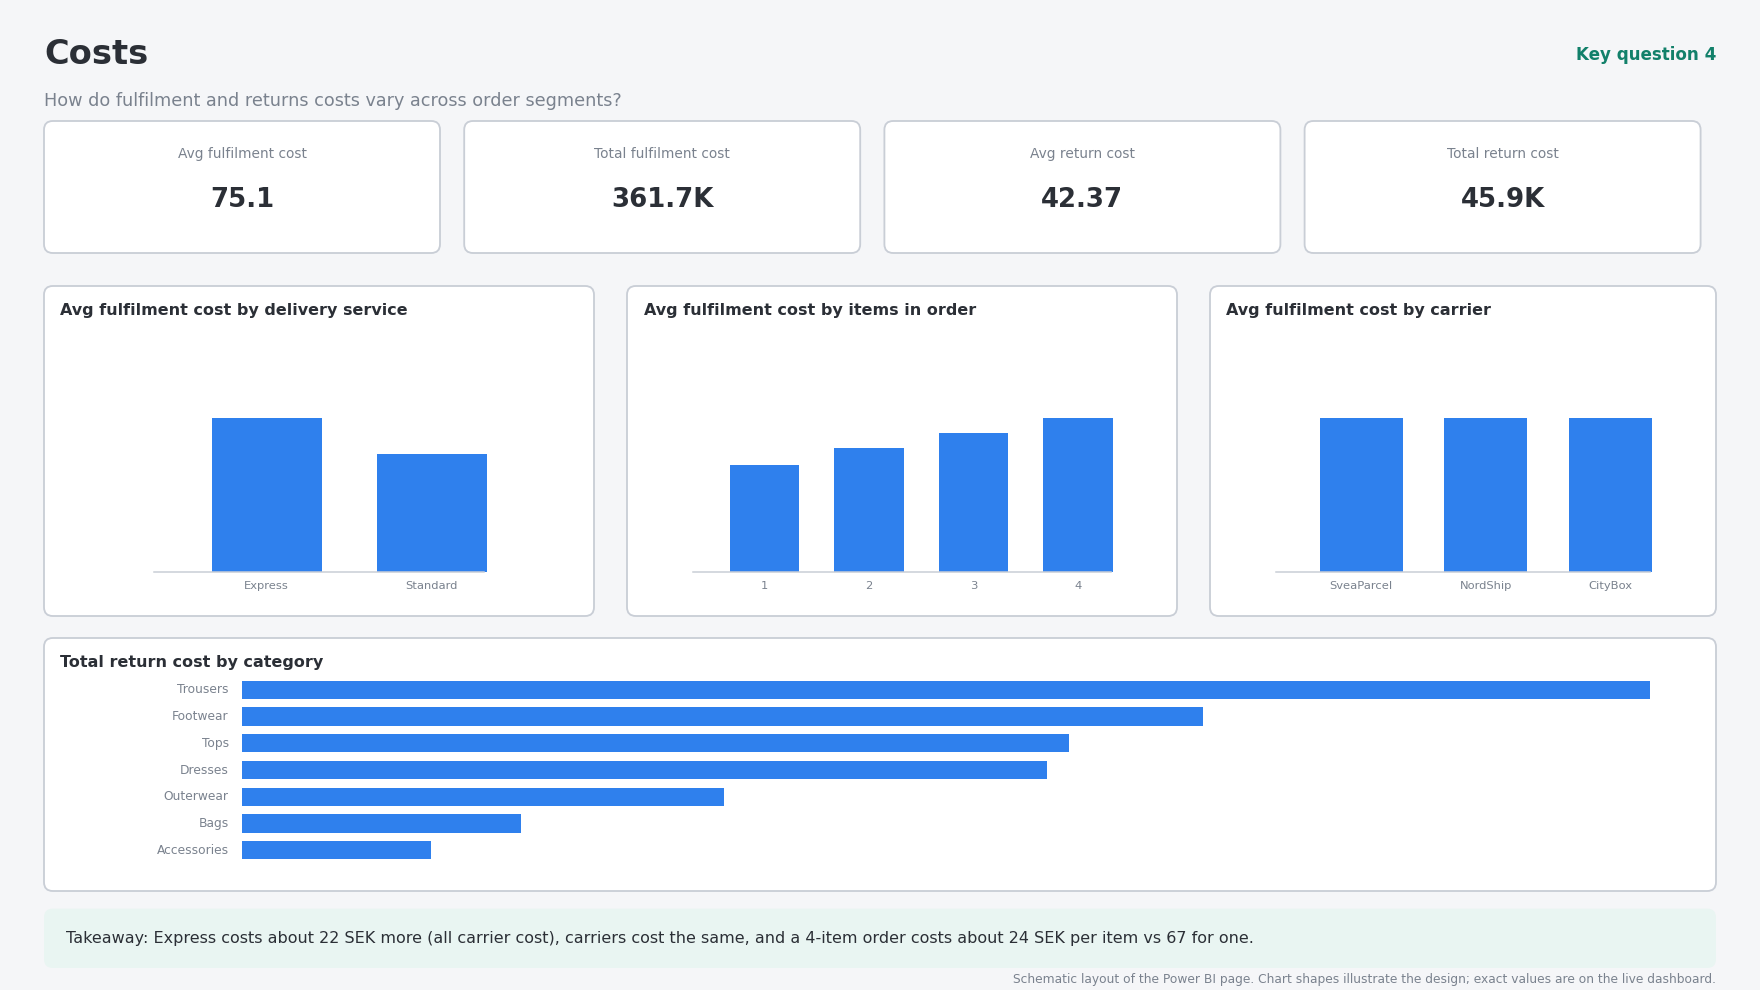

Layout of this report page (visuals, bound fields, positions):
{"tool":"powerbi","page":{"name":"Cost","canvas":[1920,1080],"ordinal":3},"visuals":[{"type":"cardVisual","fields":{"Data":["Measures (2).Avg Fulfilment Cost"]},"box":[1437.1,188.1,455.8,102.8],"z":0},{"type":"cardVisual","fields":{"Data":["Measures (2).Total Fulfilment Cost"]},"box":[32.5,187.5,455,102.5],"z":1000},{"type":"cardVisual","fields":{"Data":["Measures (2).Avg Return Cost"]},"box":[977.5,187.5,450,102.5],"z":2000},{"type":"cardVisual","fields":{"Data":["Measures (2).Total Return Cost"]},"box":[507.5,187.5,435,102.5],"z":3000},{"type":"clusteredColumnChart","title":"Avg fulfilment cost by delivery service","fields":{"Category":["T_Orders.Delivery_Service"],"Y":["Measures (2).Avg Fulfilment Cost"]},"box":[977.5,315,920,365],"z":4000},{"type":"clusteredColumnChart","title":"Avg fulfilment cost by Items in order","fields":{"Category":["T_Orders.Items In Order"],"Y":["Measures (2).Avg Fulfilment Cost"]},"box":[960,695,932.5,345],"z":5000},{"type":"clusteredColumnChart","title":"Avg fulfilment cost by carrier","fields":{"Category":["T_Fulfilment.Carrier"],"Y":["Measures (2).Avg Fulfilment Cost"]},"box":[32.5,695,910,355],"z":6000},{"type":"barChart","title":"Total return cost by category","fields":{"Category":["T_Products.Category"],"Y":["Measures (2).Total Return Cost"]},"box":[42.5,315,900,362.5],"z":7000},{"type":"slicer","fields":{"Values":["Dim_Date.Month"]},"box":[942.5,114.4,950.3,40.7],"z":8000},{"type":"slicer","fields":{"Values":["T_Orders.Delivery_Service"]},"box":[507.5,115,435,40],"z":9000},{"type":"slicer","fields":{"Values":["T_Warehouses.Warehouse_Name"]},"box":[33,114.4,453.8,46.5],"z":10000}]}

Visuals, with their boxes in screenshot pixels (x1, y1, x2, y2), scaled from the page's 1920x1080 canvas onto the 1760x990 screenshot:
cardVisual - Measures (2).Avg Fulfilment Cost: l=1317, t=172, r=1735, b=267
cardVisual - Measures (2).Total Fulfilment Cost: l=30, t=172, r=447, b=266
cardVisual - Measures (2).Avg Return Cost: l=896, t=172, r=1309, b=266
cardVisual - Measures (2).Total Return Cost: l=465, t=172, r=864, b=266
"Avg fulfilment cost by delivery service" clusteredColumnChart: l=896, t=289, r=1739, b=623
"Avg fulfilment cost by Items in order" clusteredColumnChart: l=880, t=637, r=1735, b=953
"Avg fulfilment cost by carrier" clusteredColumnChart: l=30, t=637, r=864, b=962
"Total return cost by category" barChart: l=39, t=289, r=864, b=621
slicer - Dim_Date.Month: l=864, t=105, r=1735, b=142
slicer - T_Orders.Delivery_Service: l=465, t=105, r=864, b=142
slicer - T_Warehouses.Warehouse_Name: l=30, t=105, r=446, b=147
